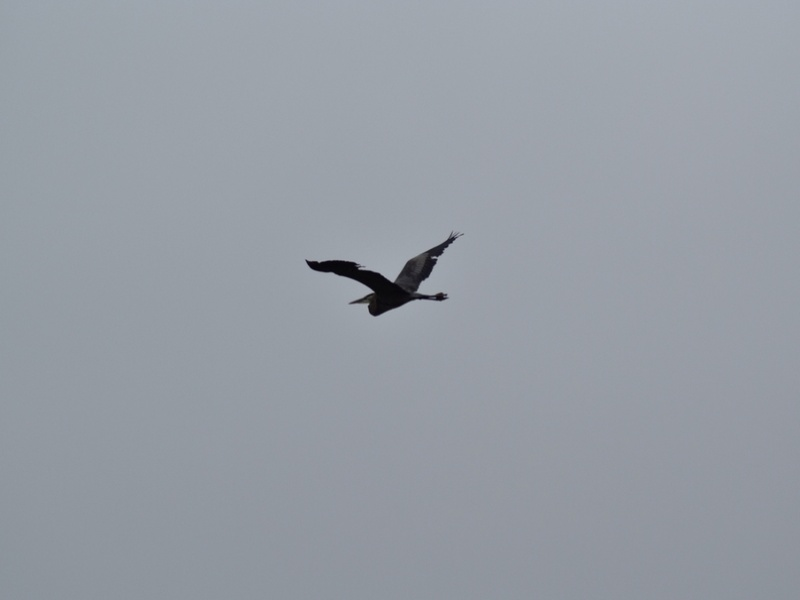heron: (297, 232, 463, 316)
